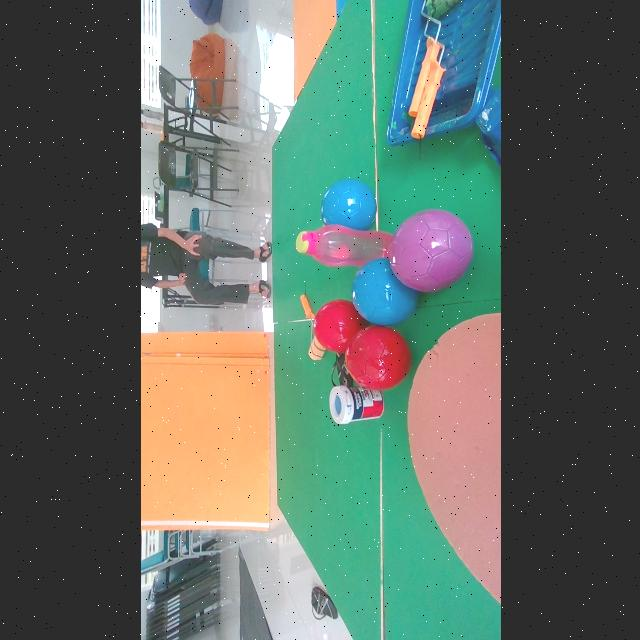B: (351, 259, 418, 325), (320, 179, 374, 230)
P: (386, 210, 472, 291)
R: (345, 327, 410, 391), (313, 299, 366, 353)
